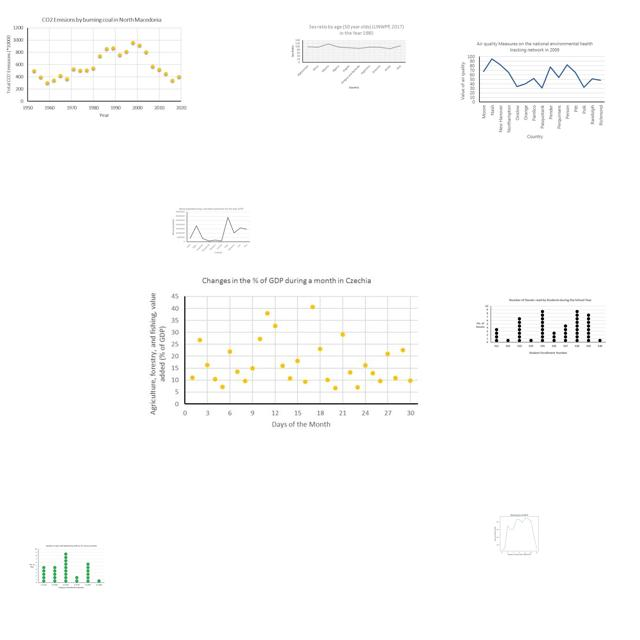Graph: (143, 272, 428, 434), (4, 14, 188, 121), (457, 38, 607, 142), (288, 22, 408, 90), (474, 297, 607, 355), (172, 206, 251, 254), (28, 543, 106, 591), (486, 511, 551, 556)
